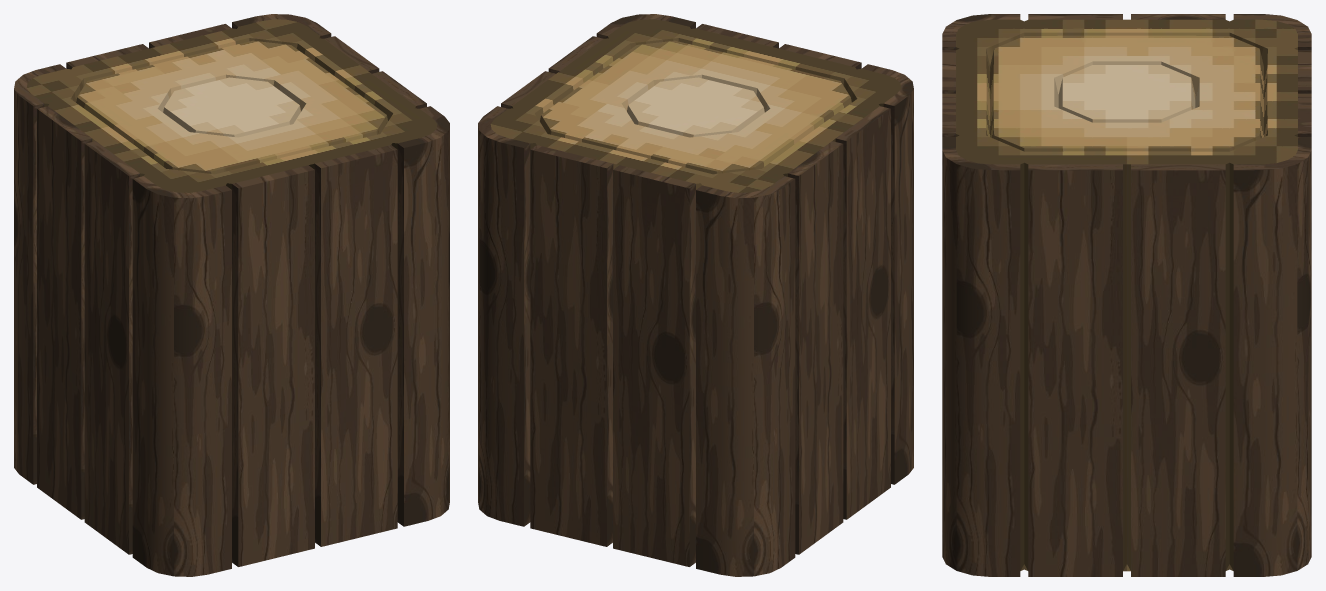
The model's file is woodcilinderquad.fbx.
3 views of the same model, side by side, from view 1: azimuth 30°, elevation 25°; view 2: azimuth 150°, elevation 25°; view 3: azimuth 270°, elevation 25° (orthographic). The views are drawn at different scales.
Visible parts, largest first — view 1: Object002; view 2: Object002; view 3: Object002.
Boxes of the visible parts, bbox=[...] form: Object002: bbox=[14, 14, 449, 576]; Object002: bbox=[478, 14, 913, 576]; Object002: bbox=[942, 14, 1311, 576].
Size of the model in its own units: 94.68 by 115 by 94.68.
Materials: 2 (2 with a texture image).
